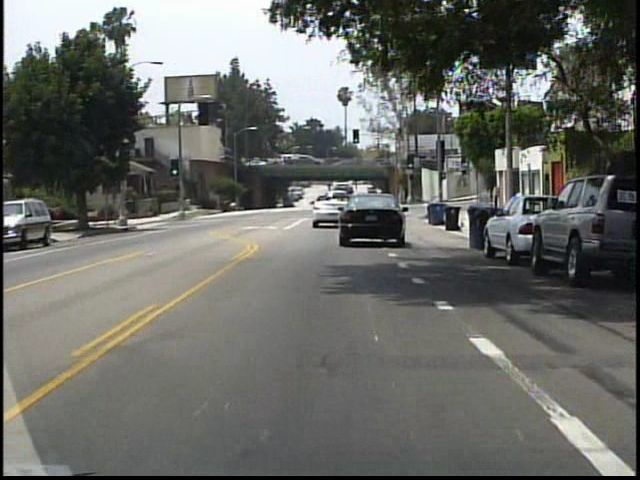person: (54, 200, 68, 233)
